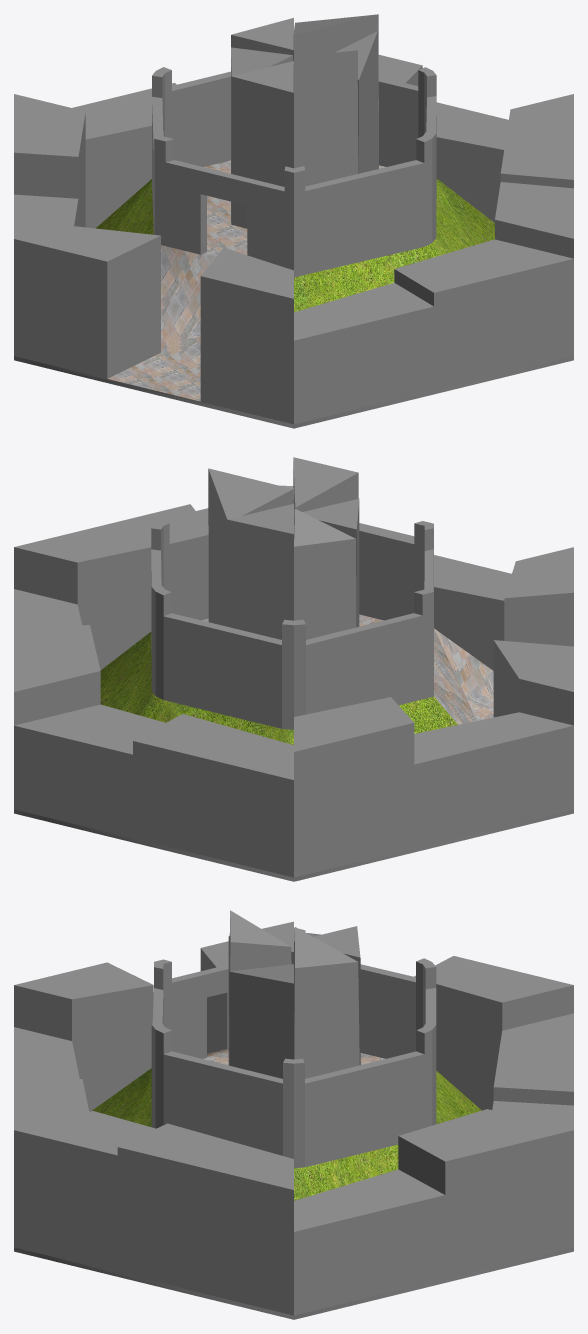
The picture shows the model from 3 angles, top to bottom: view 1: azimuth 30°, elevation 25°; view 2: azimuth 150°, elevation 25°; view 3: azimuth 270°, elevation 25°; orthographic projection.
Parts seen in each view (by area): view 1: Cylinder011; view 2: Cylinder011; view 3: Cylinder011.
Boxes of the visible parts, x1=… form: Cylinder011: x1=14, y1=14, x2=573, y2=428; Cylinder011: x1=14, y1=457, x2=573, y2=881; Cylinder011: x1=14, y1=910, x2=573, y2=1319.
Bounding box in the file's own units: 140 × 61.44 × 121.
5 materials, 2 textured.
